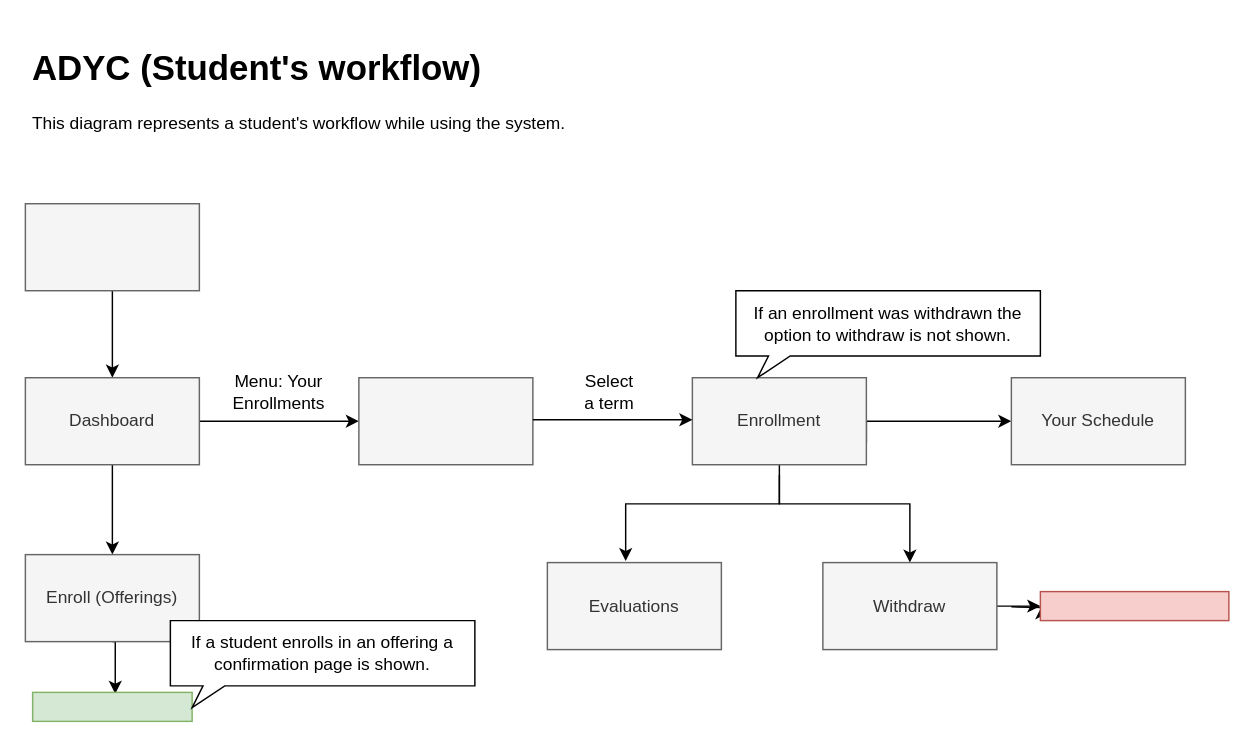
The diagram is 1254 pixels wide and 747 high, and some of its shapes have lost their labels. The box of each missing label's shape, as (x1, y1, x2, y2) in pixels:
Enroll? Yes or No: (31, 691, 192, 721)
Enrollments (Terms): (357, 376, 533, 465)
Login: (24, 202, 199, 291)
Withdraw? Yes or No: (1039, 590, 1229, 621)
